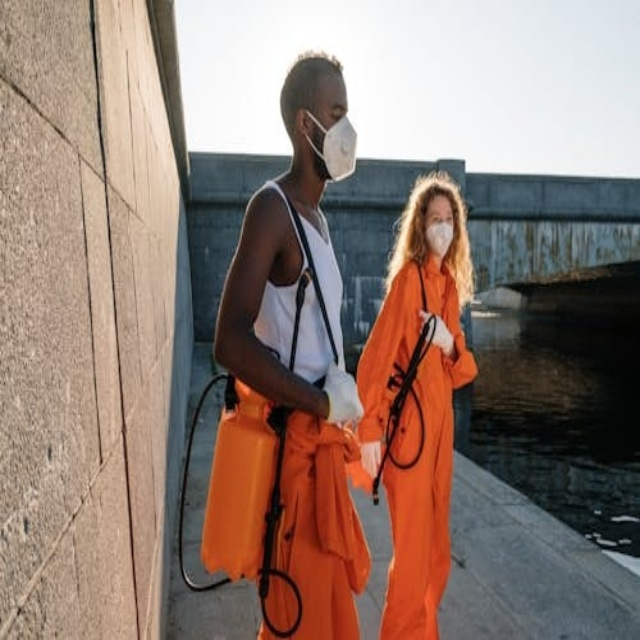Guantes: (322, 364, 364, 425), (420, 310, 455, 355), (359, 440, 383, 480)
Mascara: (304, 111, 357, 182), (425, 221, 454, 258)
Sin_gafas: (312, 98, 349, 121), (424, 204, 456, 225)
